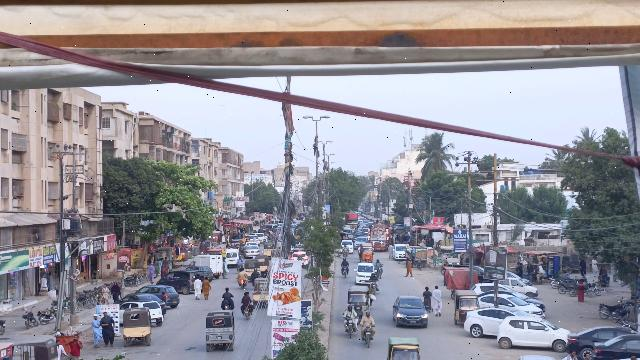Bike: (341, 315, 359, 342), (361, 324, 377, 350), (241, 306, 253, 323), (222, 299, 233, 315), (340, 264, 349, 279), (375, 265, 384, 279)
Car: (495, 314, 570, 350), (565, 325, 628, 358), (462, 307, 529, 337), (391, 296, 430, 327), (591, 333, 638, 358), (353, 262, 376, 285)
Person: (100, 310, 117, 348), (89, 313, 102, 347), (432, 284, 445, 317), (68, 335, 84, 360), (220, 284, 235, 306), (360, 308, 377, 327), (422, 285, 433, 312), (345, 301, 359, 319), (202, 276, 212, 301), (193, 274, 202, 301), (110, 280, 122, 300), (240, 291, 254, 307), (404, 258, 415, 278), (339, 256, 350, 269), (374, 259, 383, 269)
Rickshaw: (203, 310, 238, 352), (122, 307, 153, 348), (451, 290, 480, 327), (346, 284, 372, 318), (386, 336, 421, 360), (253, 279, 272, 308)
Truck: (196, 254, 224, 278)
